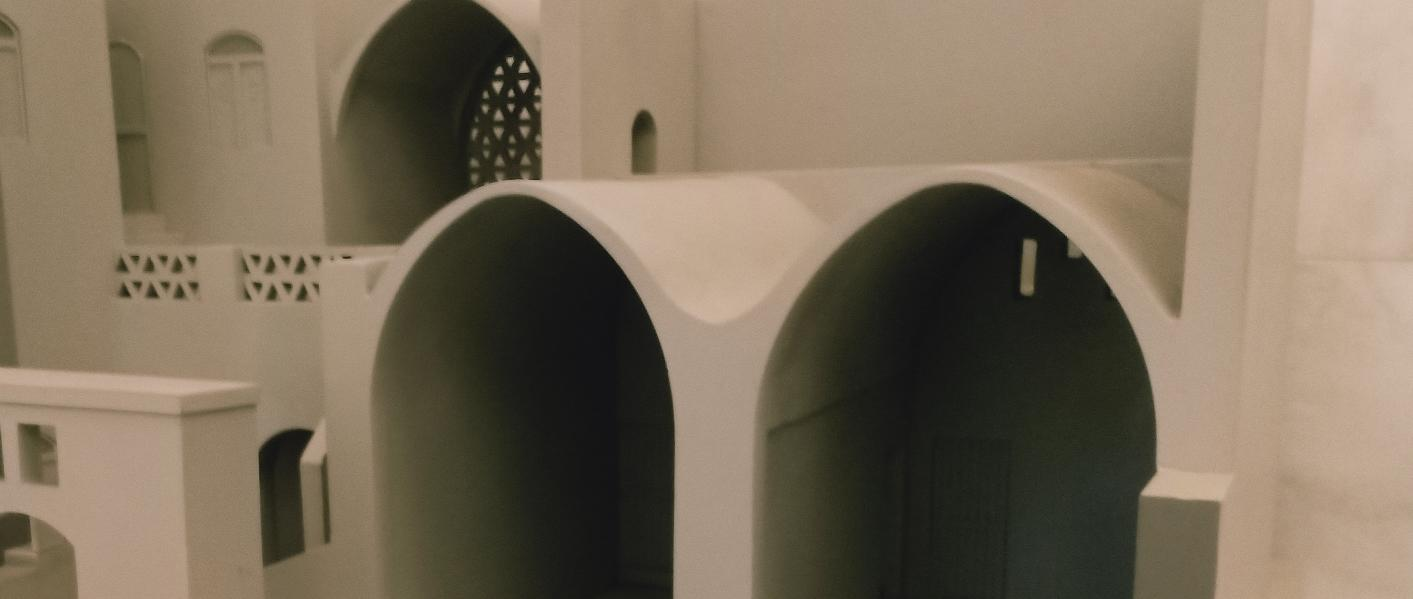HassanFathi: (0, 0, 1345, 599)
